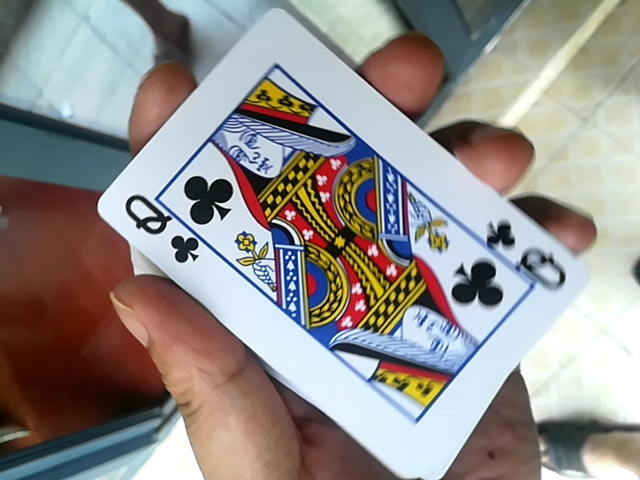mh q: (84, 7, 606, 475)
